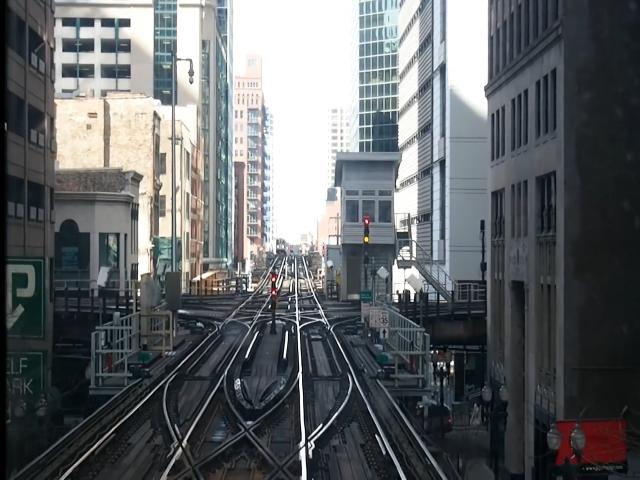signal light: (364, 217, 371, 271), (272, 274, 279, 312)
